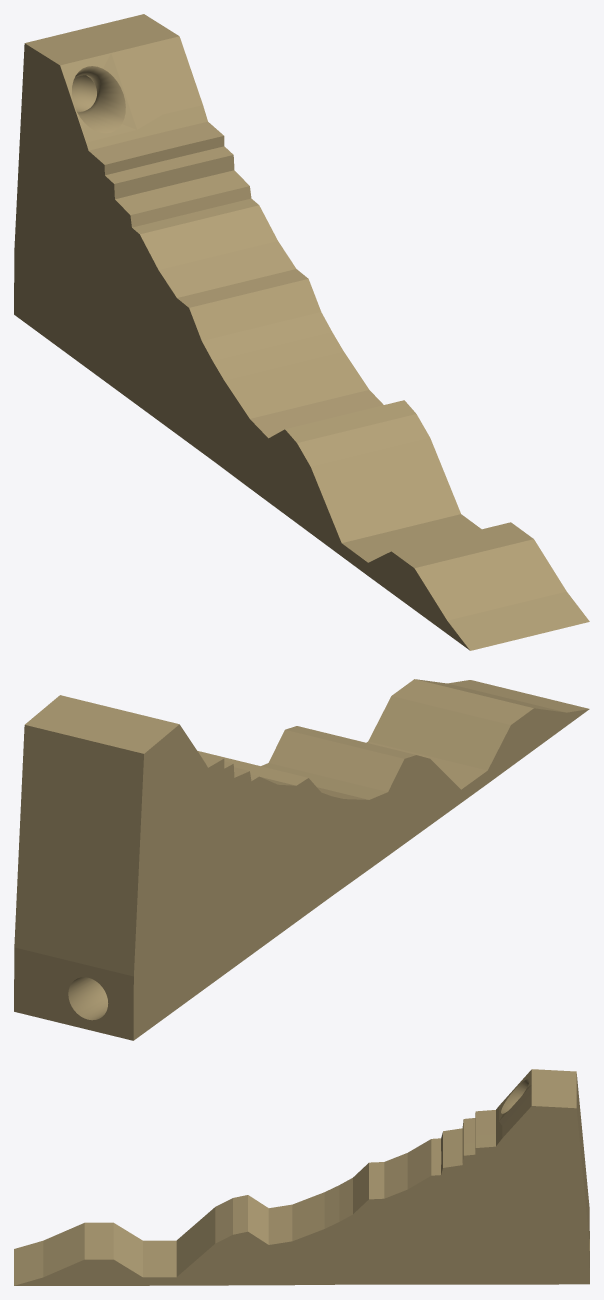
The model's file is Puzzle3.fbx.
The picture shows the model from 3 angles, top to bottom: view 1: azimuth 30°, elevation 25°; view 2: azimuth 150°, elevation 25°; view 3: azimuth 270°, elevation 25°; orthographic projection. The views are drawn at different scales.
Visible parts, largest first — view 1: Cube.001; view 2: Cube.001; view 3: Cube.001.
Part boxes in pixels (x1=…): Cube.001: x1=14, y1=14, x2=589, y2=650; Cube.001: x1=14, y1=679, x2=589, y2=1040; Cube.001: x1=14, y1=1069, x2=589, y2=1285.
Bounding box in the file's own units: 599 × 1366 × 3964.
